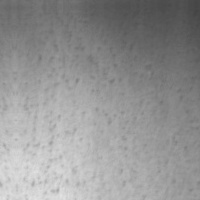pitted_surface: (23, 31, 79, 196), (69, 43, 199, 101), (84, 108, 146, 185), (172, 89, 199, 199)
